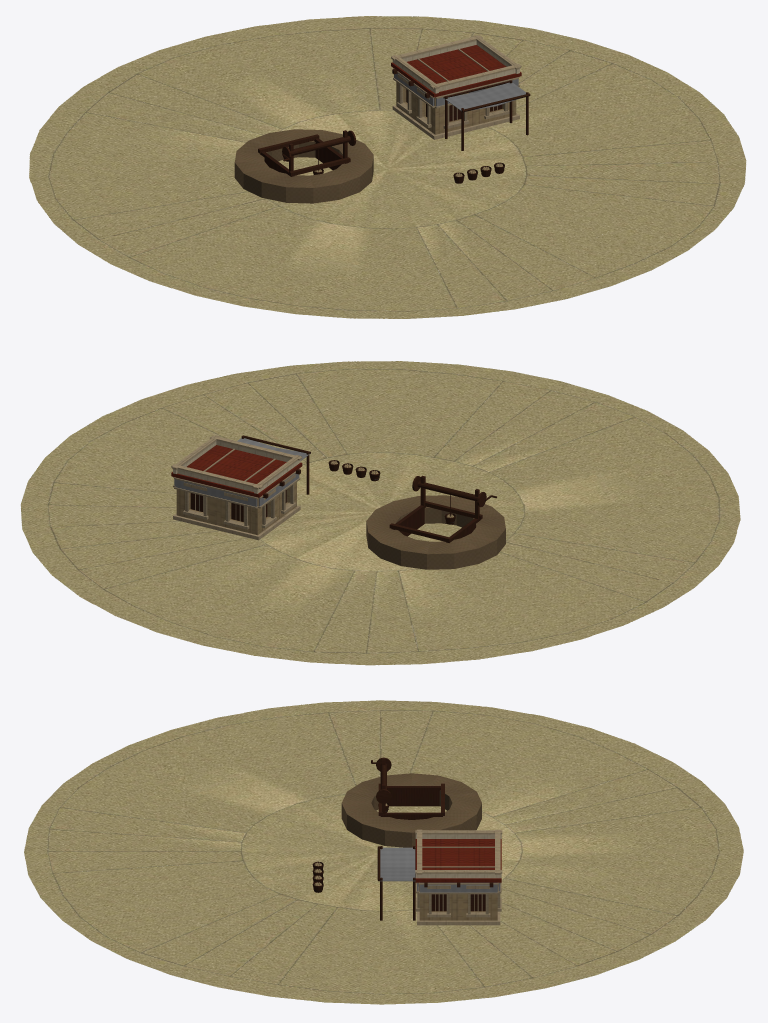
File: mine-bronze.glb
3 renders of one model, top to bottom at view 1: azimuth 30°, elevation 25°; view 2: azimuth 150°, elevation 25°; view 3: azimuth 270°, elevation 25°, orthographic.
Parts seen in each view (by area): view 1: LOD0; view 2: LOD0; view 3: LOD0.
Boxes of the visible parts, x1,y1,x2,y2 form: LOD0: [29, 16, 746, 318]; LOD0: [20, 361, 740, 665]; LOD0: [24, 700, 743, 1004].
Size of what is drawn, in the model's own units: 4.74 by 0.374 by 4.74.
Materials: 3 (3 with a texture image).
